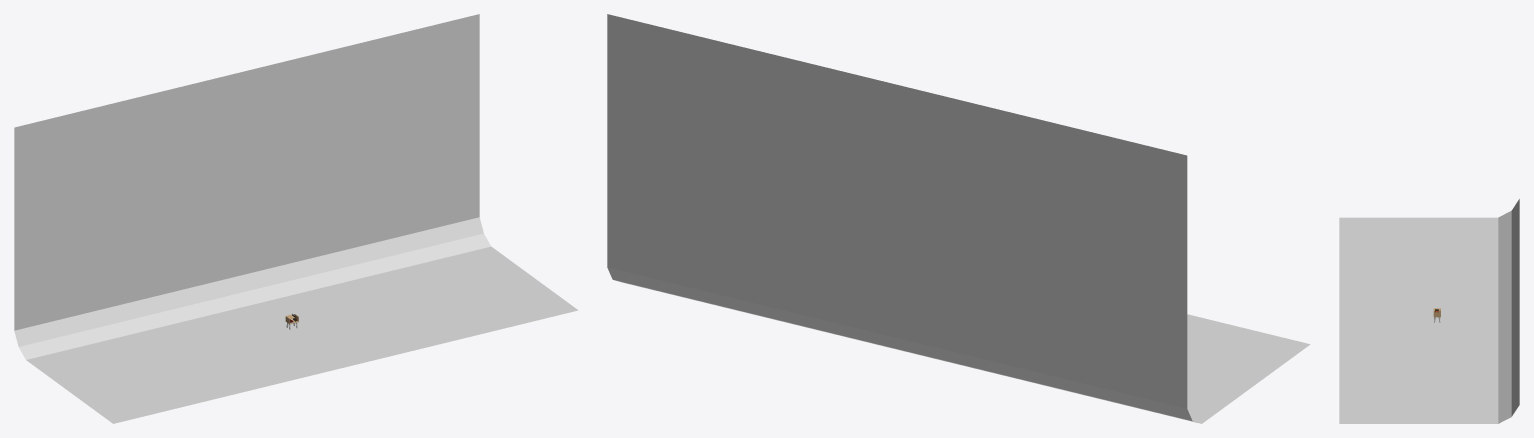
The model's file is uploads_files_1853254_coffee+table_fbx.FBX.
The picture shows the model from 3 angles, left to right: view 1: azimuth 30°, elevation 25°; view 2: azimuth 150°, elevation 25°; view 3: azimuth 270°, elevation 25°; orthographic projection. The views are drawn at different scales.
Parts seen in each view (by area): view 1: STUDIO; view 2: STUDIO; view 3: STUDIO.
Part boxes in pixels (<box>): STUDIO: <box>14,14,578,423</box>; STUDIO: <box>607,14,1310,423</box>; STUDIO: <box>1339,199,1519,423</box>.
Bounding box in the file's own units: 787 × 362 × 290.
